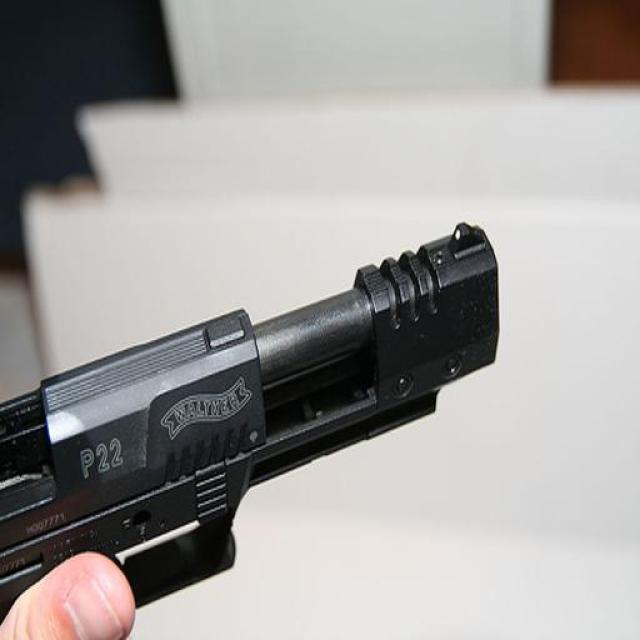pistol: (1, 220, 499, 627)
